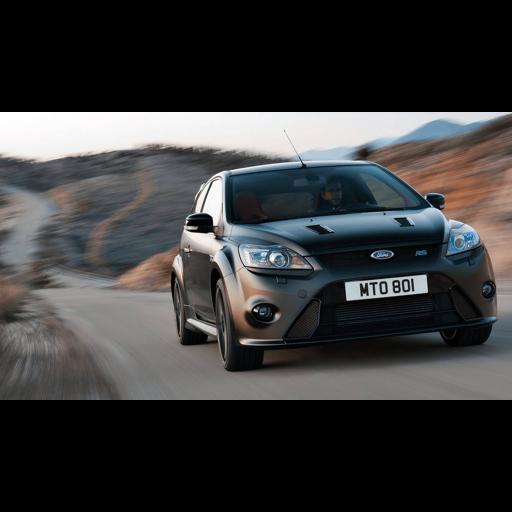hatchback: (170, 160, 496, 370)
